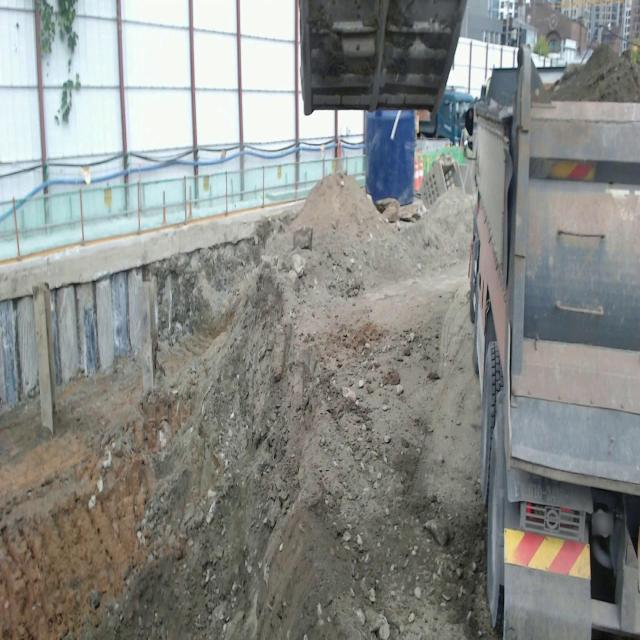cement: (0, 199, 304, 303)
red-sand: (0, 175, 495, 639)
